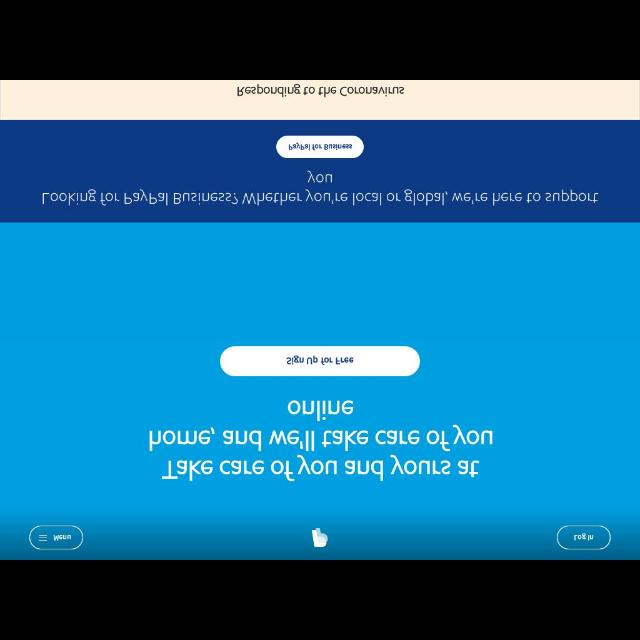icon: (38, 534, 48, 542)
image: (312, 528, 328, 548)
text: (149, 399, 493, 481), (42, 169, 600, 205), (238, 84, 404, 98), (287, 355, 355, 365), (288, 142, 352, 150), (574, 532, 594, 542), (54, 533, 72, 541)
textbutton: (220, 346, 422, 376), (276, 136, 364, 158), (557, 524, 611, 550), (29, 526, 83, 550)
